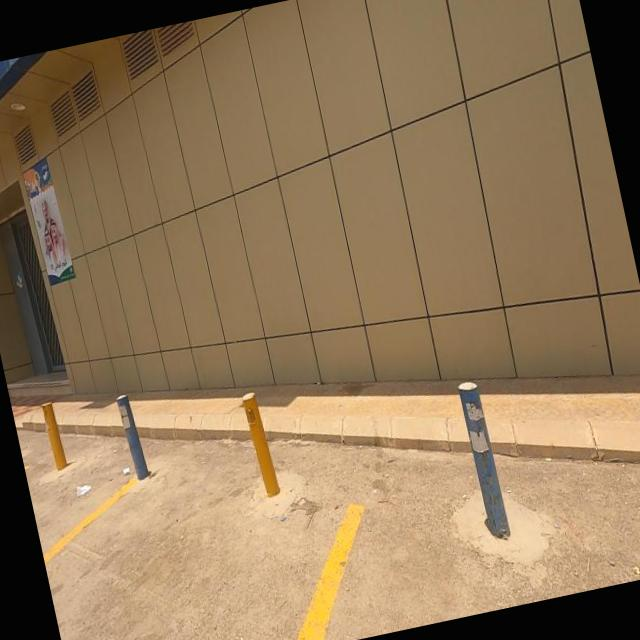debris: (35, 442, 124, 532), (85, 439, 142, 498)
